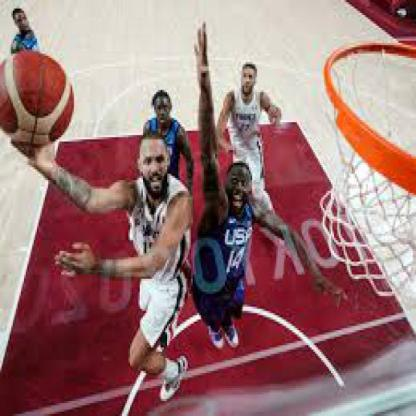basketball: (0, 50, 74, 150)
rim: (323, 39, 414, 197)
